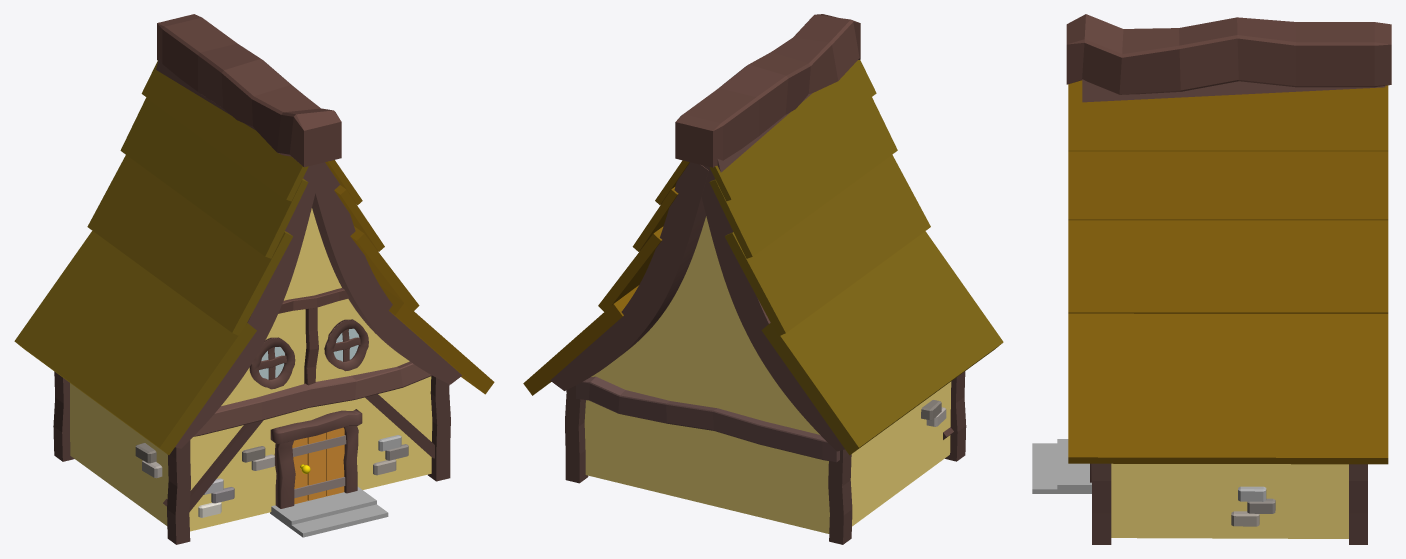
The model's file is cottage_house2.glb.
The picture shows the model from 3 angles, left to right: view 1: azimuth 30°, elevation 25°; view 2: azimuth 150°, elevation 25°; view 3: azimuth 270°, elevation 25°; orthographic projection. The views are drawn at different scales.
Parts seen in each view (by area): view 1: Cube.009, Cube.005, Cube.006, NurbsPath.003, NurbsPath.002, Cube.026, Cube.013, Cube.010, Cube.017, Cube.024, Cube.021, Cube.012 (+7 smaller); view 2: Cube.009, Cube.005, Cube.006, NurbsPath.003, Cube.051, NurbsPath.002, Cube.026, Cube.010; view 3: Cube.010, Cube.006, Cube.005, Cube.026, Cube.024, NurbsPath.003, Cube.045.
Boxes of the visible parts, left/top/right/bottom form: Cube.009: left=14, top=61, right=308, bottom=454; Cube.005: left=70, top=208, right=432, bottom=531; Cube.006: left=157, top=14, right=341, bottom=167; NurbsPath.003: left=312, top=162, right=461, bottom=384; NurbsPath.002: left=156, top=56, right=322, bottom=448; Cube.026: left=53, top=371, right=450, bottom=544; Cube.013: left=193, top=361, right=432, bottom=436; Cube.010: left=325, top=160, right=494, bottom=394; Cube.017: left=270, top=409, right=362, bottom=508; Cube.024: left=270, top=487, right=388, bottom=537; Cube.021: left=292, top=427, right=344, bottom=504; Cube.012: left=324, top=319, right=368, bottom=371; Cube.009: left=709, top=60, right=1003, bottom=455; Cube.005: left=584, top=216, right=951, bottom=533; Cube.006: left=675, top=14, right=860, bottom=167; NurbsPath.003: left=550, top=162, right=708, bottom=390; Cube.051: left=576, top=376, right=839, bottom=462; NurbsPath.002: left=701, top=93, right=844, bottom=451; Cube.026: left=565, top=371, right=966, bottom=544; Cube.010: left=523, top=160, right=689, bottom=395; Cube.010: left=1068, top=80, right=1388, bottom=464; Cube.006: left=1066, top=14, right=1391, bottom=94; Cube.005: left=1111, top=463, right=1348, bottom=538; Cube.026: left=1092, top=463, right=1367, bottom=544; Cube.024: left=1032, top=439, right=1091, bottom=493; NurbsPath.003: left=1082, top=79, right=1385, bottom=102; Cube.045: left=1238, top=486, right=1266, bottom=501.
Size of the model in its own units: 6.54 by 7.53 by 5.49.
